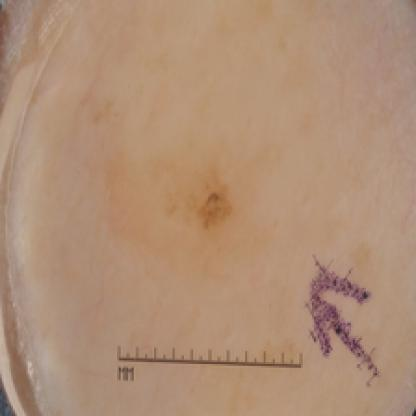malignant: (172, 175, 250, 243)
